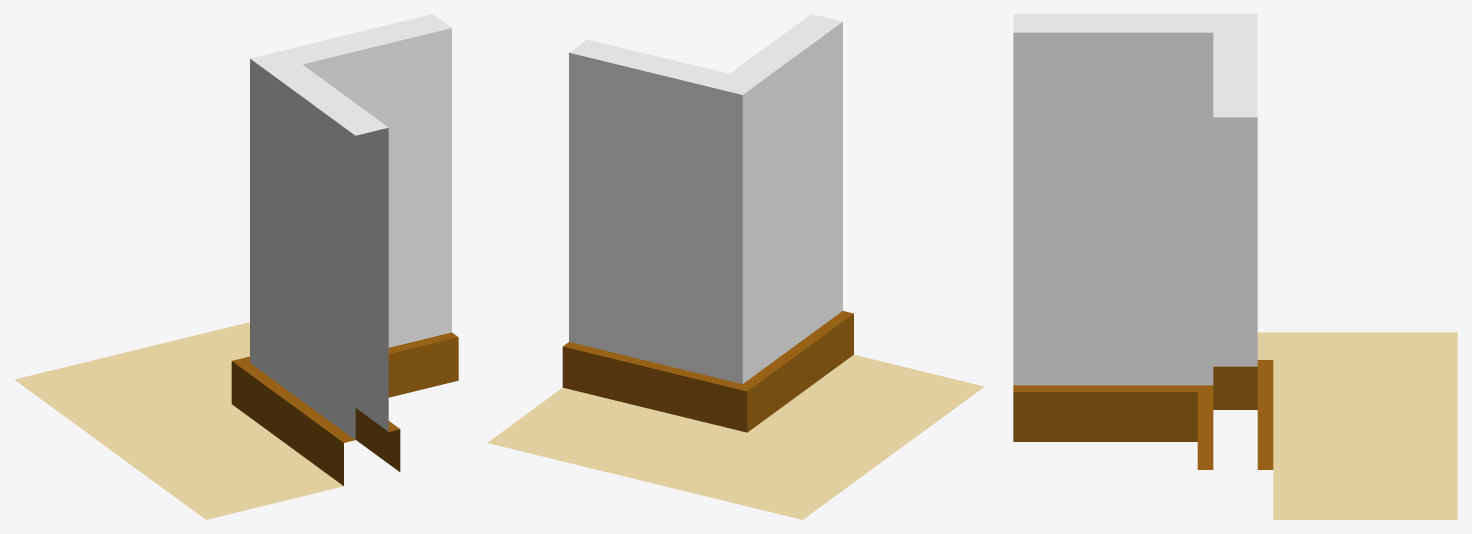
Rendered from I_Wall_L_Shape_Elevator.fbx.
3 views of the same model, side by side, from view 1: azimuth 30°, elevation 25°; view 2: azimuth 150°, elevation 25°; view 3: azimuth 270°, elevation 25° (orthographic). The views are drawn at different scales.
Parts seen in each view (by area): view 1: I_Wall_L_Shape_Elevator; view 2: I_Wall_L_Shape_Elevator; view 3: I_Wall_L_Shape_Elevator.
Boxes of the visible parts, x1=… form: I_Wall_L_Shape_Elevator: x1=14, y1=14, x2=458, y2=519; I_Wall_L_Shape_Elevator: x1=487, y1=14, x2=984, y2=519; I_Wall_L_Shape_Elevator: x1=1013, y1=14, x2=1457, y2=519.
Size of the model in its own units: 200 by 200 by 200.
1 material, 1 textured.
